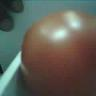tomato: (21, 11, 96, 96)
